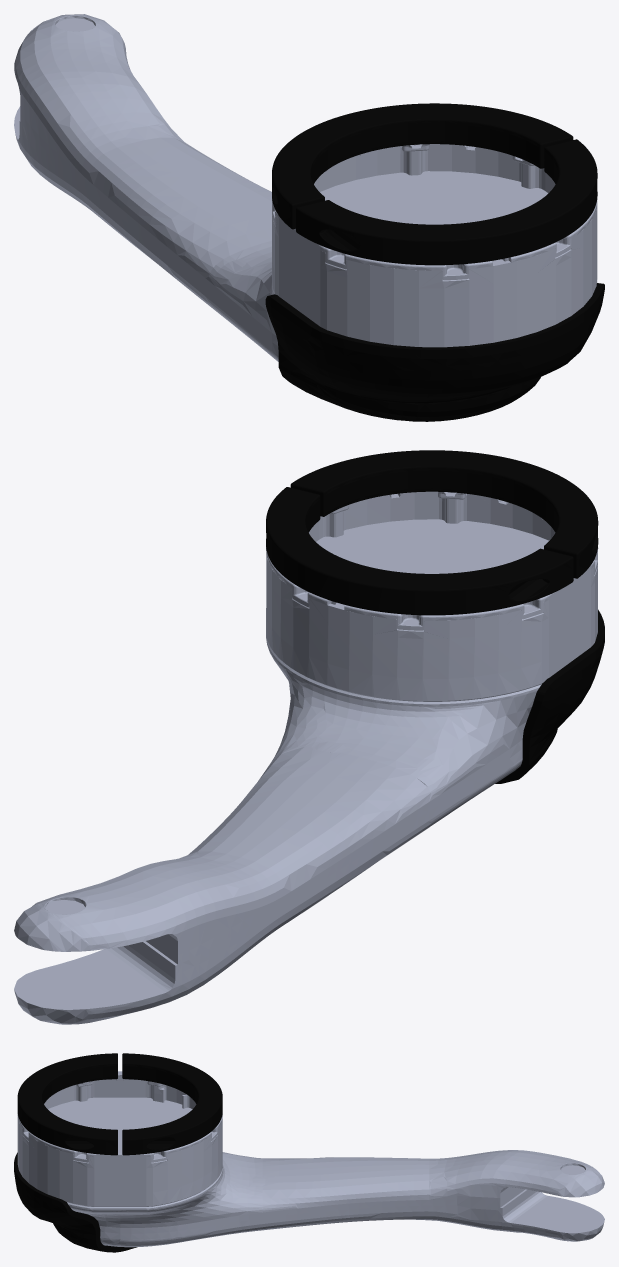
File: thigh_mirror.obj
3 views of the same model, one above another, from view 1: azimuth 30°, elevation 25°; view 2: azimuth 150°, elevation 25°; view 3: azimuth 270°, elevation 25° (orthographic). The views are drawn at different scales.
Parts seen in each view (by area): view 1: thigh_003-mesh_1, thigh_003-mesh; view 2: thigh_003-mesh_1, thigh_003-mesh; view 3: thigh_003-mesh_1, thigh_003-mesh.
Boxes of the visible parts, bbox=[...] form: thigh_003-mesh_1: bbox=[14, 14, 597, 361]; thigh_003-mesh: bbox=[265, 103, 604, 421]; thigh_003-mesh_1: bbox=[14, 491, 598, 1024]; thigh_003-mesh: bbox=[266, 450, 604, 783]; thigh_003-mesh_1: bbox=[17, 1071, 604, 1247]; thigh_003-mesh: bbox=[14, 1053, 222, 1252].
Bounding box in the file's own units: 0.0969 × 0.0734 × 0.2779.
